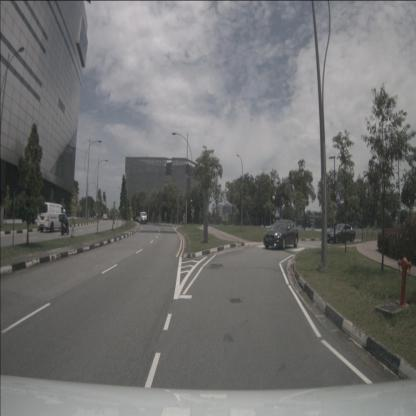vehicle-car: (263, 219, 299, 250), (36, 202, 64, 232), (326, 223, 356, 244), (140, 211, 148, 224), (101, 213, 108, 220)
vehicle-motorcycle: (59, 209, 69, 236)
